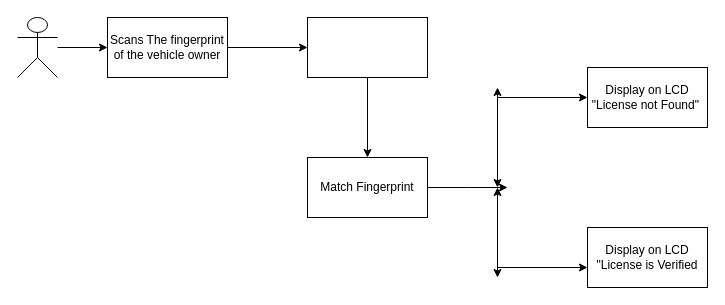
The diagram is 725 pixels wide and 305 high, and some of its shapes have lost their labels. The centre of each missing label's shape, as x and y in pixels:
Actor: (37,47)
Fetching Data in memory: (367,47)
